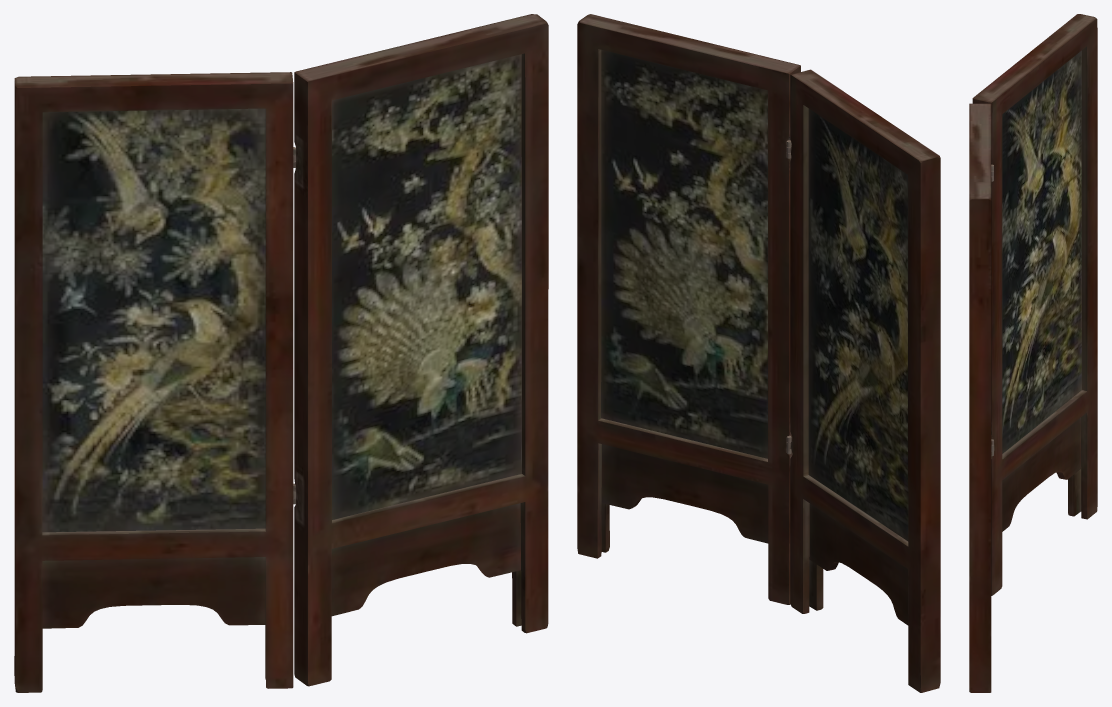
The model's file is chinese_screen_panels.glb.
3 views of the same model, side by side, from view 1: azimuth 30°, elevation 25°; view 2: azimuth 150°, elevation 25°; view 3: azimuth 270°, elevation 25° (orthographic). The views are drawn at different scales.
Visible parts, largest first — view 1: chinese_screen_panels_b, chinese_screen_panels_a; view 2: chinese_screen_panels_a, chinese_screen_panels_b; view 3: chinese_screen_panels_b, chinese_screen_panels_a.
Boxes of the visible parts, x1=… form: chinese_screen_panels_b: x1=14, y1=72, x2=295, y2=692; chinese_screen_panels_a: x1=293, y1=14, x2=548, y2=686; chinese_screen_panels_a: x1=577, y1=14, x2=800, y2=604; chinese_screen_panels_b: x1=786, y1=69, x2=940, y2=692; chinese_screen_panels_b: x1=972, y1=14, x2=1097, y2=595; chinese_screen_panels_a: x1=969, y1=103, x2=993, y2=692.
Bounding box in the file's own units: 1.29 × 1.6 × 0.3768.
1 material, 1 textured.
